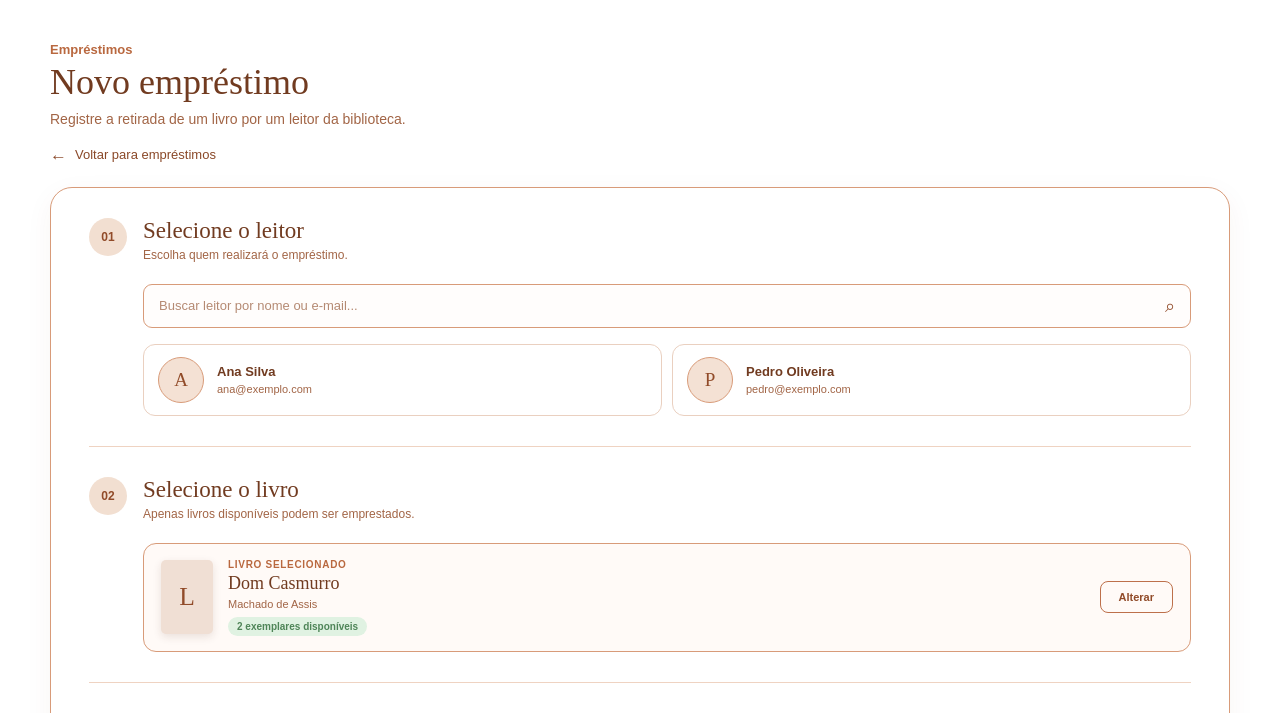
it: Testes de novo empréstimo › deve selecionar automaticamente o livro pela URL
The width and height of the screenshot is (1280, 713).
Expected: the text "Livro selecionado" is shown, [228,559,347,570]
Expected: the text "Dom Casmurro" is shown, [228,573,340,593]
Click the button "A Ana Silva ana@exemplo.com" at [181, 380], box [143,344,662,416]
(page scrolled)
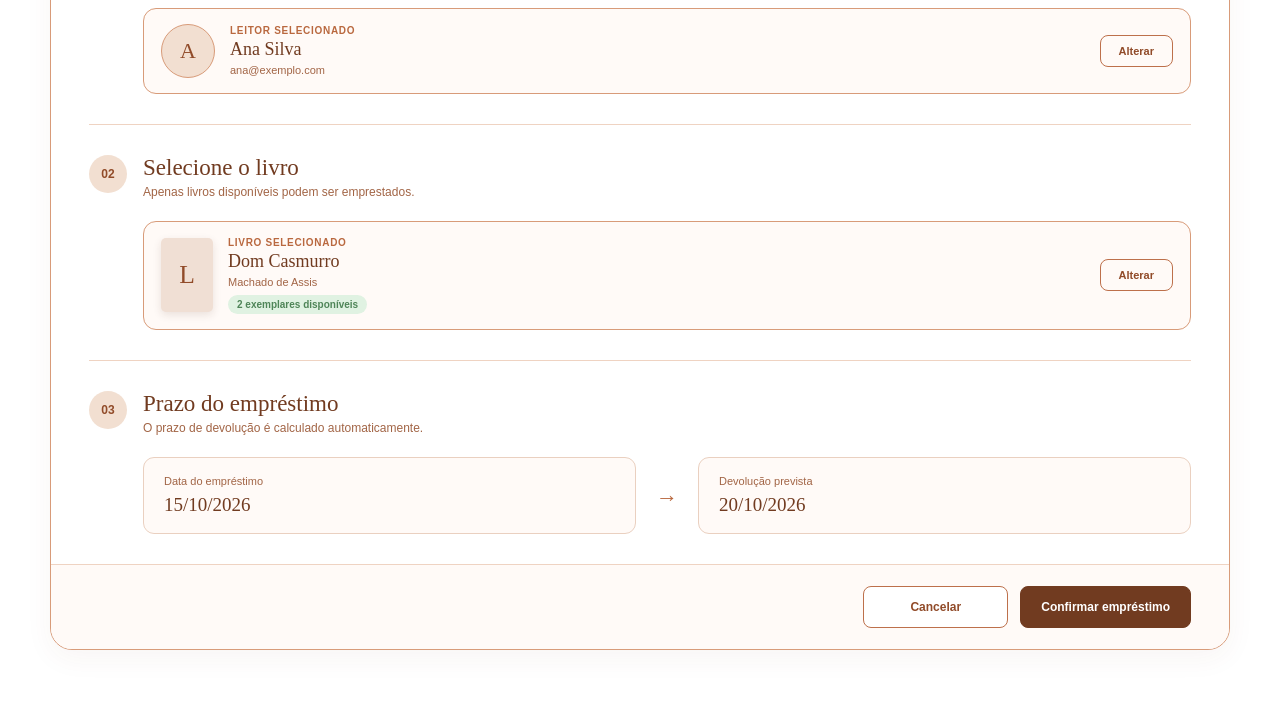
Now the button "Confirmar empréstimo" is enabled, box [1020,586,1191,628]
